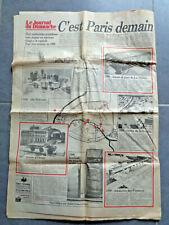paper: (7, 12, 162, 222)
